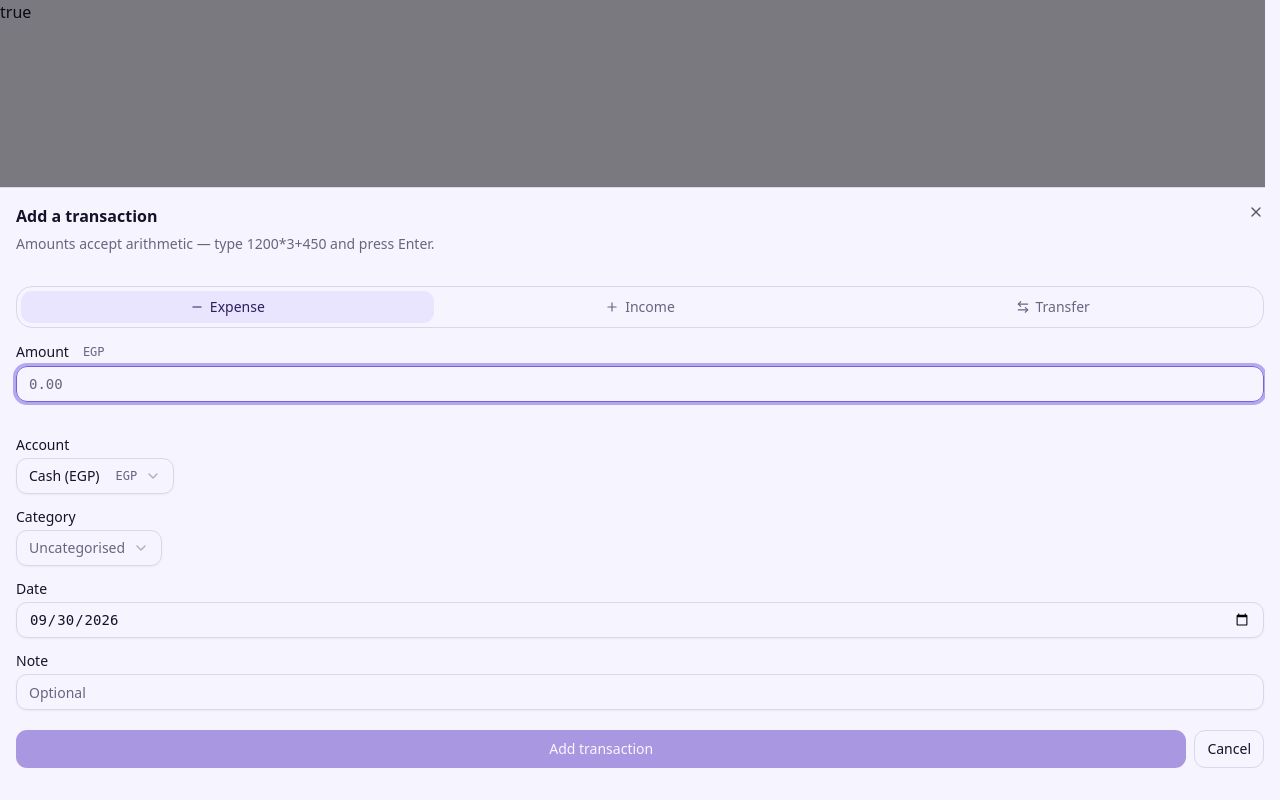
when the server refuses › puts a field-level rejection next to the field
The width and height of the screenshot is (1280, 800).
Expected: the dropdown labelled "Cash (EGP) EGP" is shown, [16, 458, 174, 494]
Type "-10" into the field labelled "Amount EGP" at (640, 384), box [16, 366, 1264, 402]
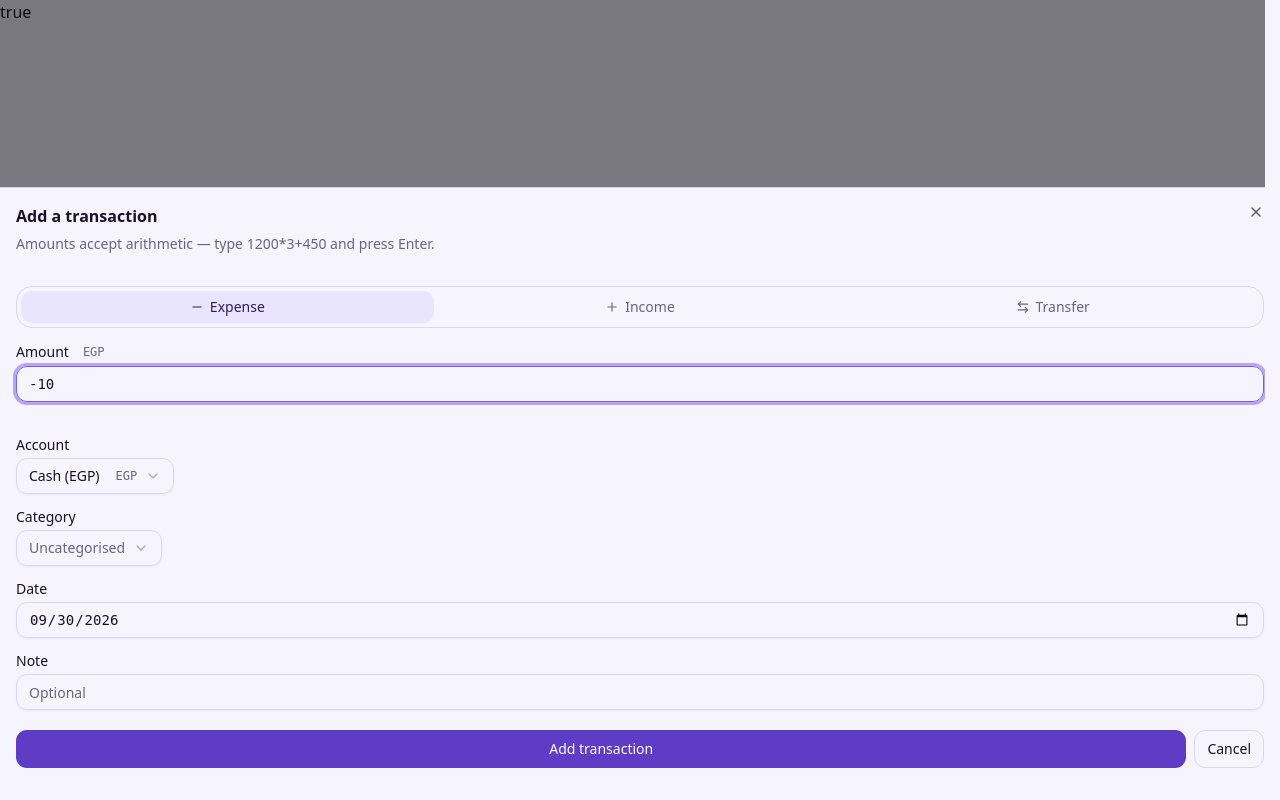
Click the button "Add transaction" at (601, 749), box [16, 730, 1186, 768]
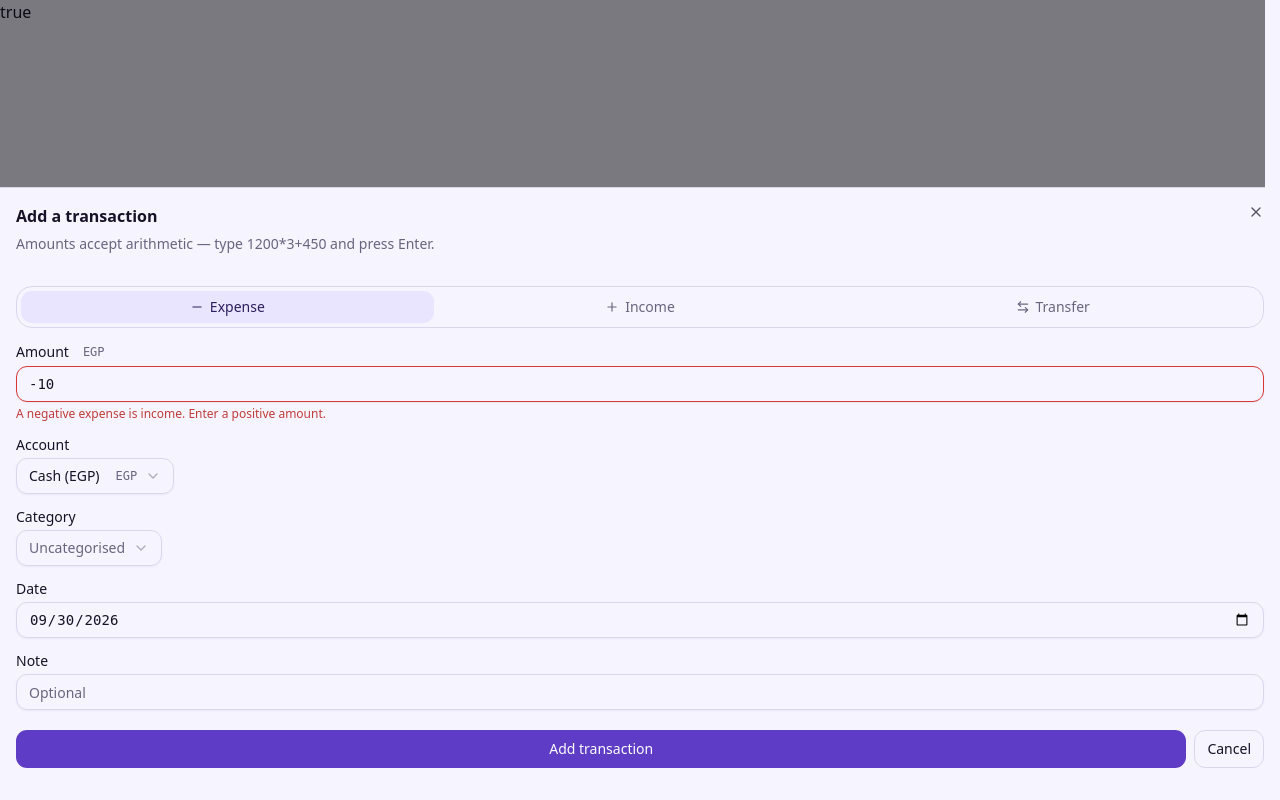
Expected: the text with test id "open" reads "true", [0, 1, 31, 23]
Expected: the text "A negative expense is income. Enter a positive amount." is shown, [16, 405, 326, 422]
